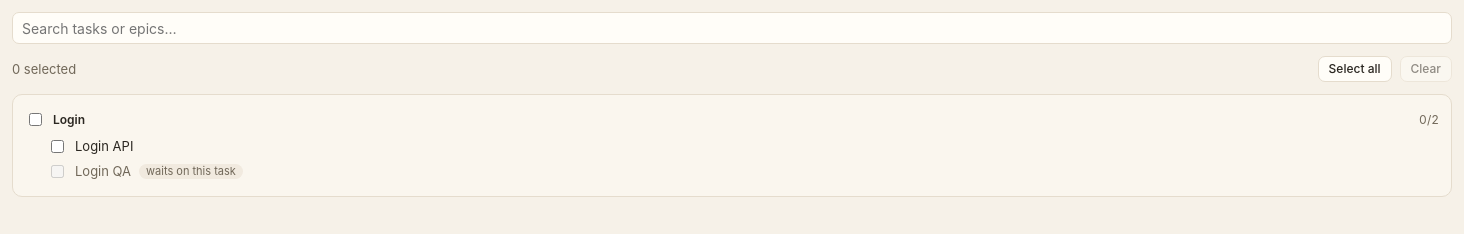
Test: DependencyPicker › won't bulk-select a task that already waits on this one
The width and height of the screenshot is (1464, 234).
expect the checkbox labelled "Login QA waits on this task" is disabled: met, box x1=51 y1=165 x2=64 y2=178
Click the checkbox named "All tasks in Login": {"x": 36, "y": 120} x1=29 y1=113 x2=42 y2=126
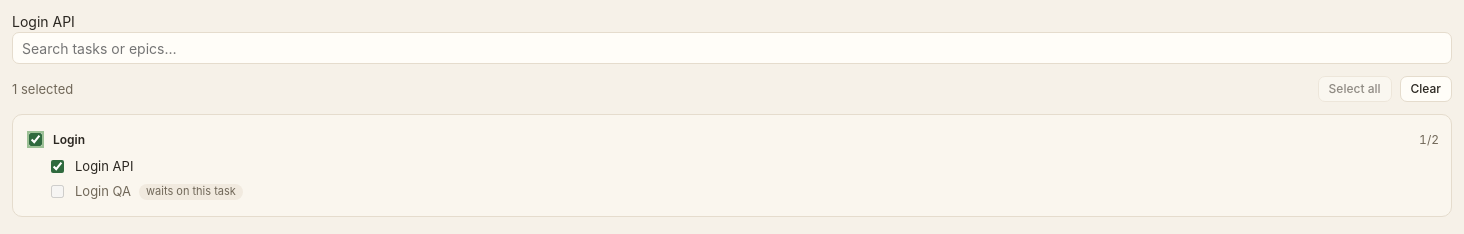
expect the checkbox named "All tasks in Login" is checked: met, box x1=29 y1=133 x2=42 y2=146
expect the text with test id "deps" reads "Login API": met, box x1=12 y1=13 x2=75 y2=30
